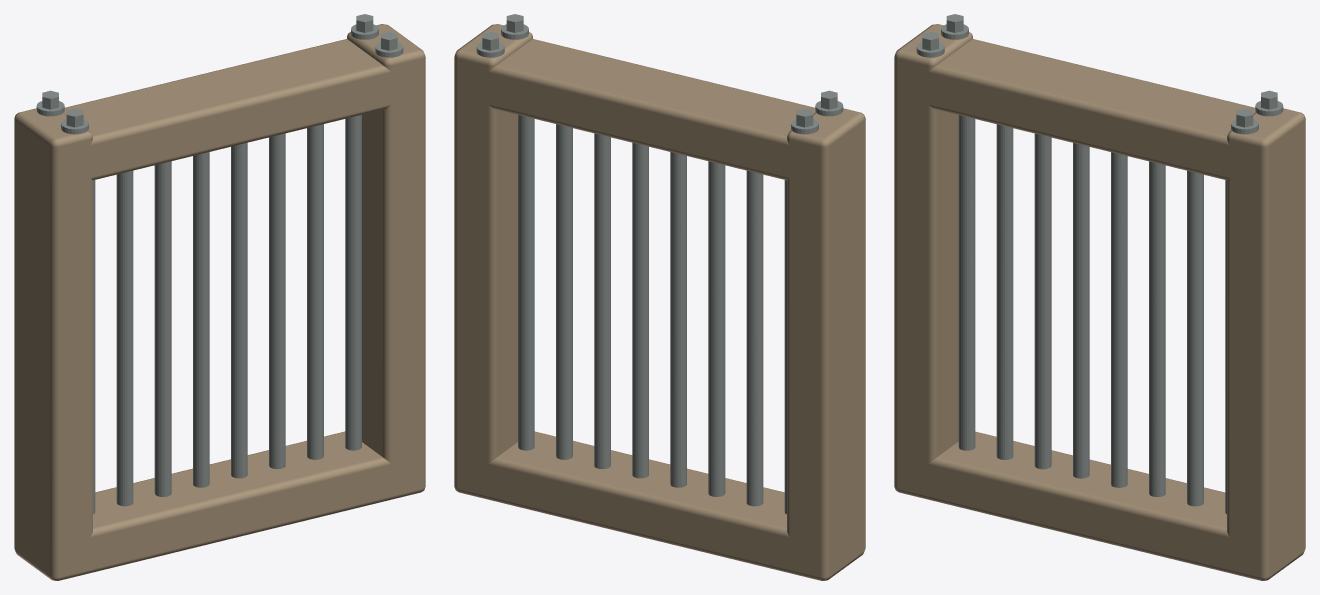
Rendered from coastal-saltworks-and-trade-port-coastal-saltworks-and-f117db08__31373.glb.
The picture shows the model from 3 angles, left to right: view 1: azimuth 30°, elevation 25°; view 2: azimuth 150°, elevation 25°; view 3: azimuth 330°, elevation 25°; orthographic projection.
Parts seen in each view (by area): view 1: coastal-saltworks-and-trade-port-intake-screen; view 2: coastal-saltworks-and-trade-port-intake-screen; view 3: coastal-saltworks-and-trade-port-intake-screen.
Part boxes in pixels (x1=…): coastal-saltworks-and-trade-port-intake-screen: x1=14, y1=14, x2=425, y2=580; coastal-saltworks-and-trade-port-intake-screen: x1=454, y1=14, x2=865, y2=580; coastal-saltworks-and-trade-port-intake-screen: x1=894, y1=14, x2=1305, y2=580.
Bounding box in the file's own units: 0.62 × 0.725 × 0.12.
